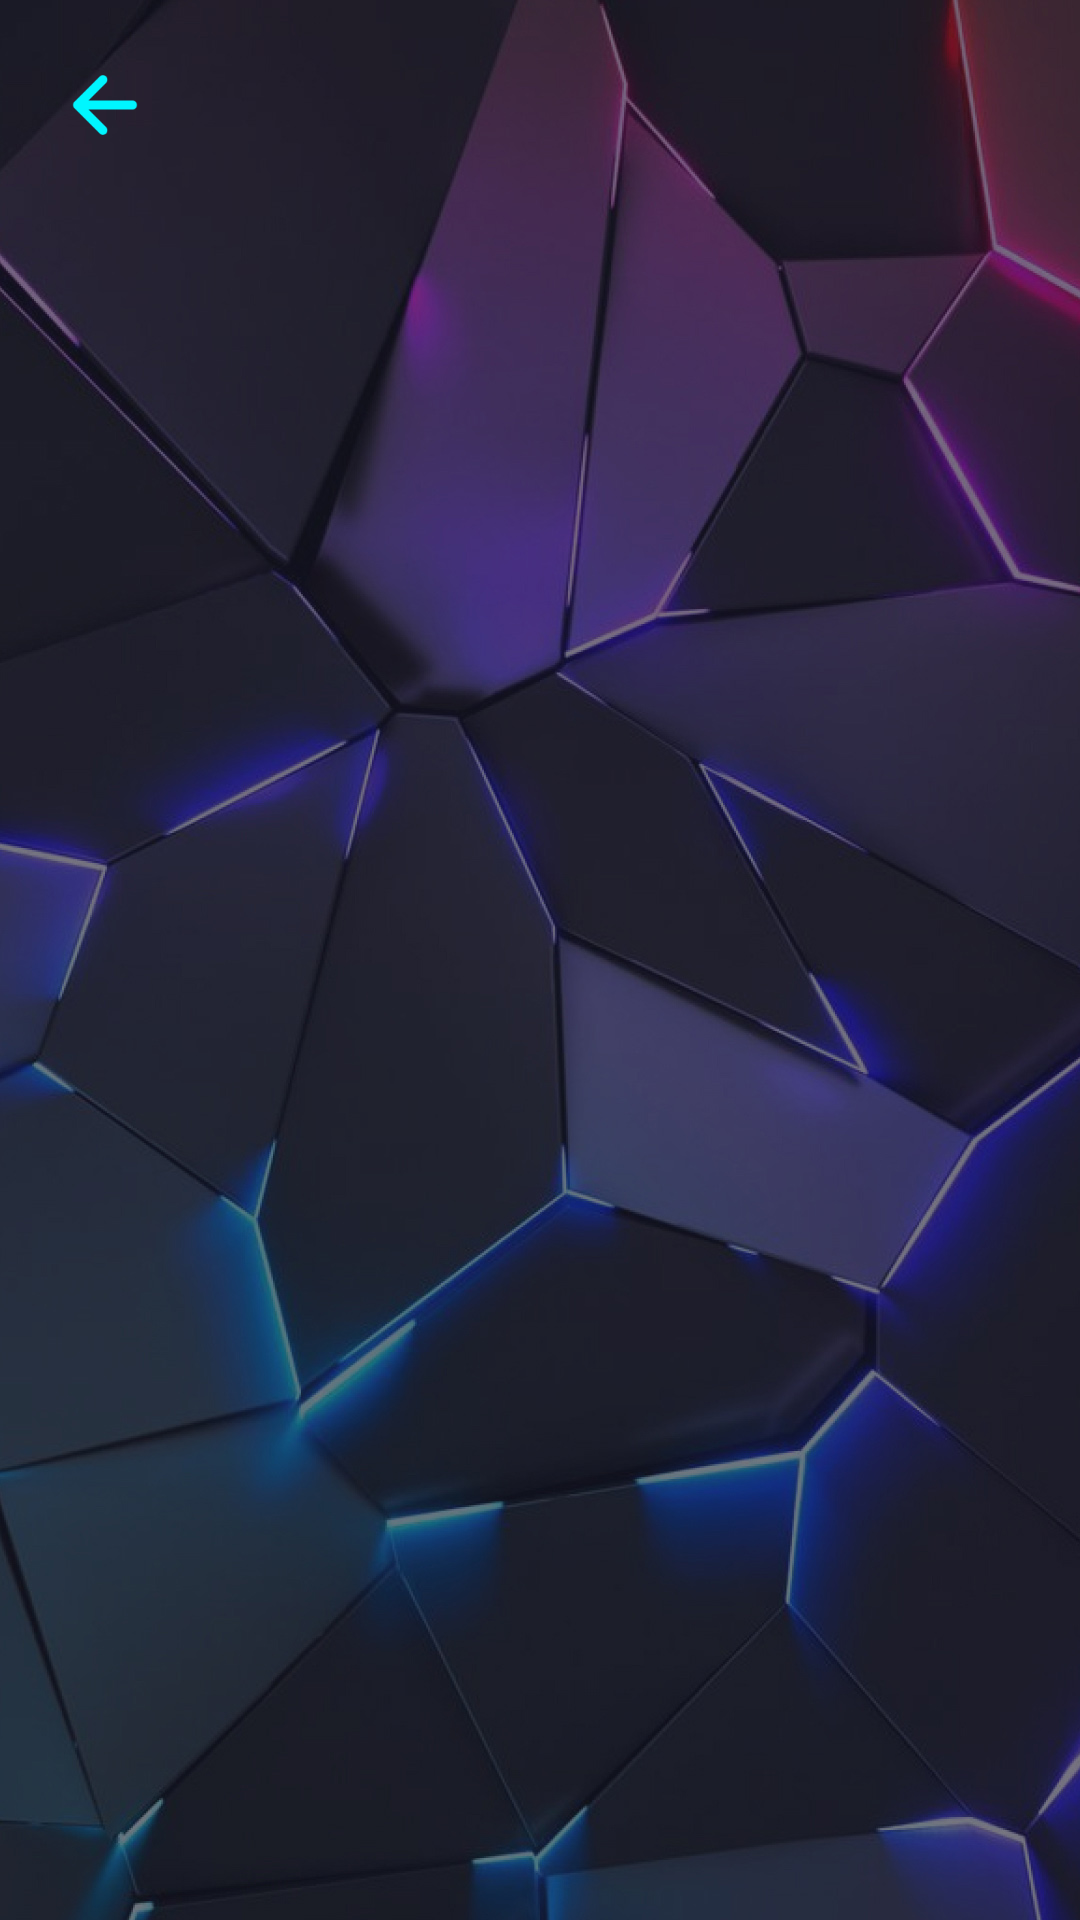

Where icons sit on this 1080×1920 app screen, as (x1, y1, x2, y2):
back: (72, 75, 138, 135)
